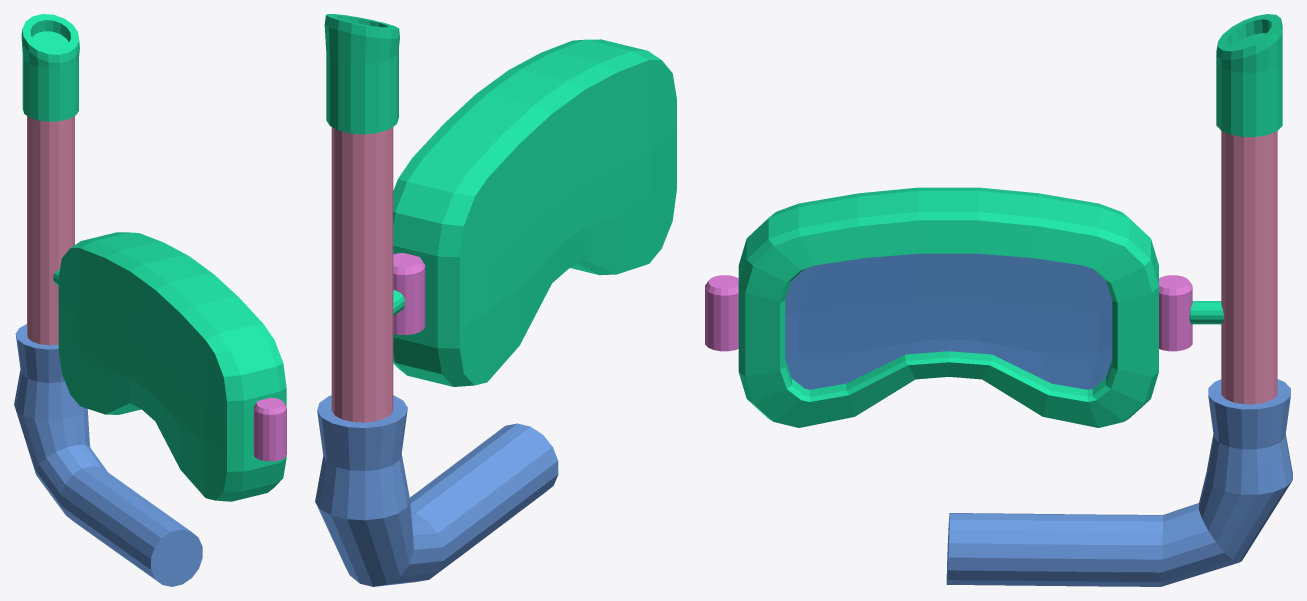
File: Goggles.fbx
The picture shows the model from 3 angles, left to right: view 1: azimuth 30°, elevation 25°; view 2: azimuth 150°, elevation 25°; view 3: azimuth 270°, elevation 25°; orthographic projection. The views are drawn at different scales.
Visible parts, largest first — view 1: Snorkeling_Goggles; view 2: Snorkeling_Goggles; view 3: Snorkeling_Goggles.
Part boxes in pixels (bbox=[...]): Snorkeling_Goggles: bbox=[14, 14, 286, 586]; Snorkeling_Goggles: bbox=[315, 14, 676, 586]; Snorkeling_Goggles: bbox=[705, 14, 1292, 586].
Bounding box in the file's own units: 9.99 × 67.63 × 64.08.
